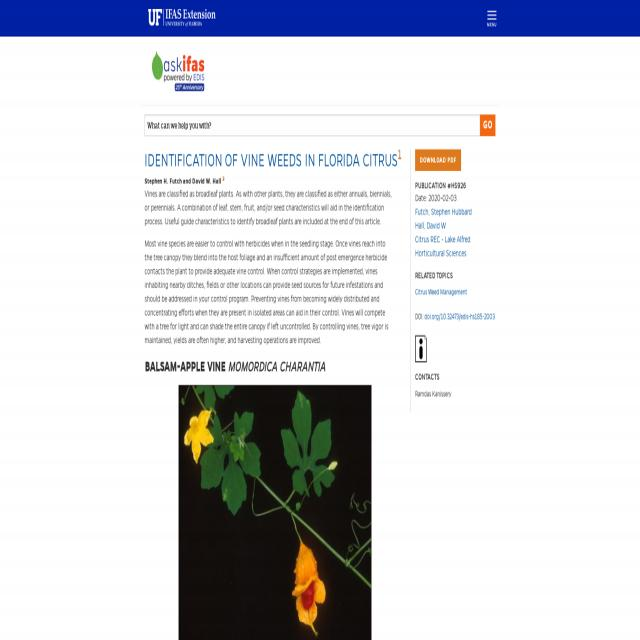button: (178, 384, 371, 640), (152, 51, 204, 92), (148, 9, 216, 27), (415, 149, 461, 171), (415, 158, 461, 170), (483, 6, 501, 32), (480, 115, 496, 136), (415, 336, 427, 362)
field: (145, 114, 480, 136)
